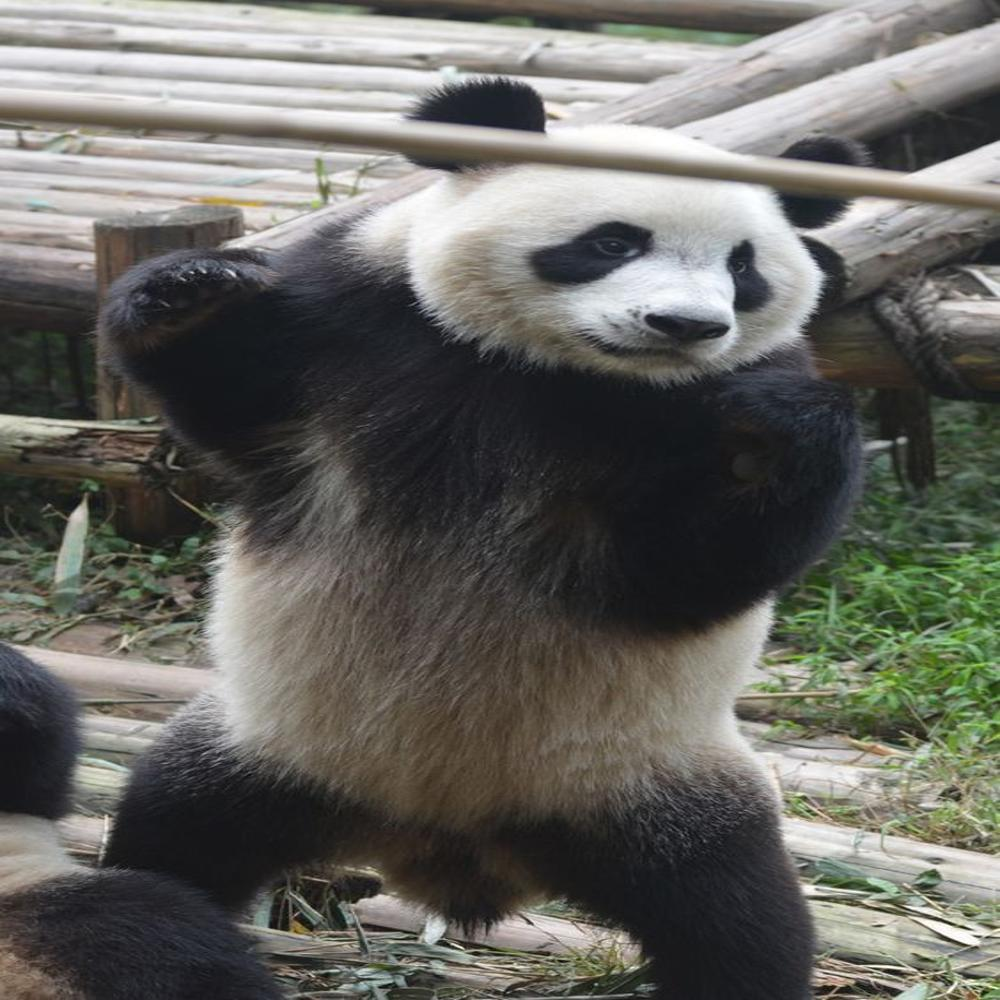panda: (100, 72, 860, 995)
